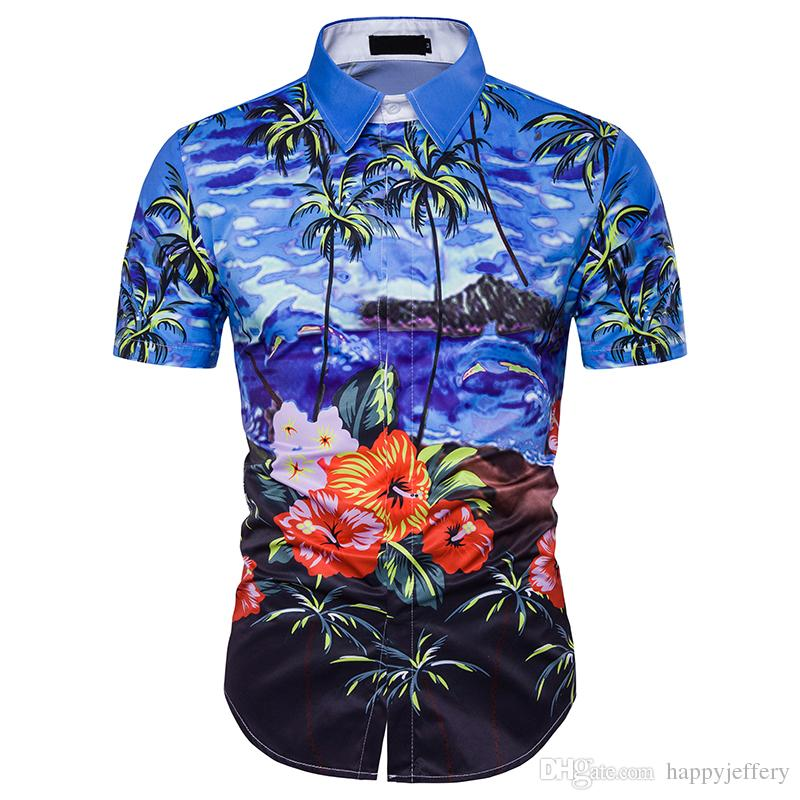Shirt: (101, 12, 694, 781)
